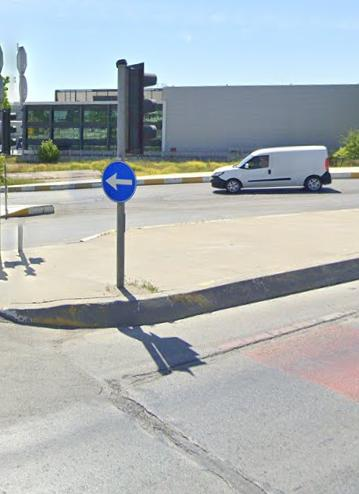turnleft: (104, 163, 135, 198)
